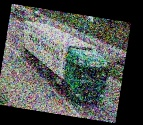truck: (10, 18, 116, 110)
